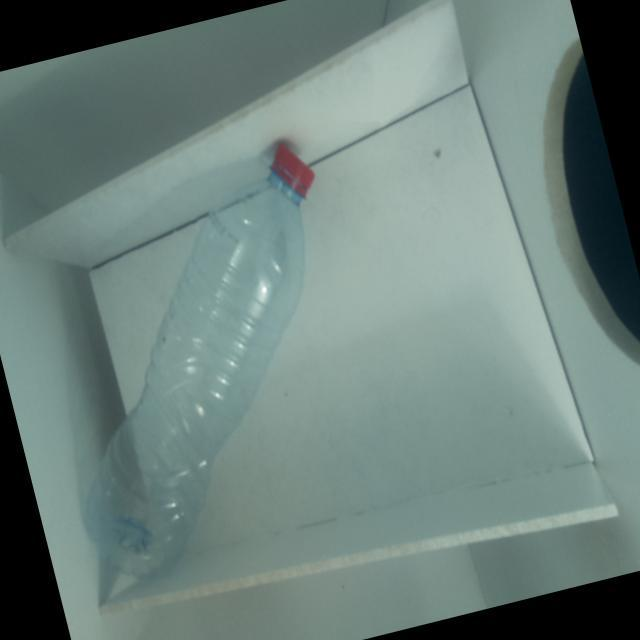good: (1, 130, 403, 596)
